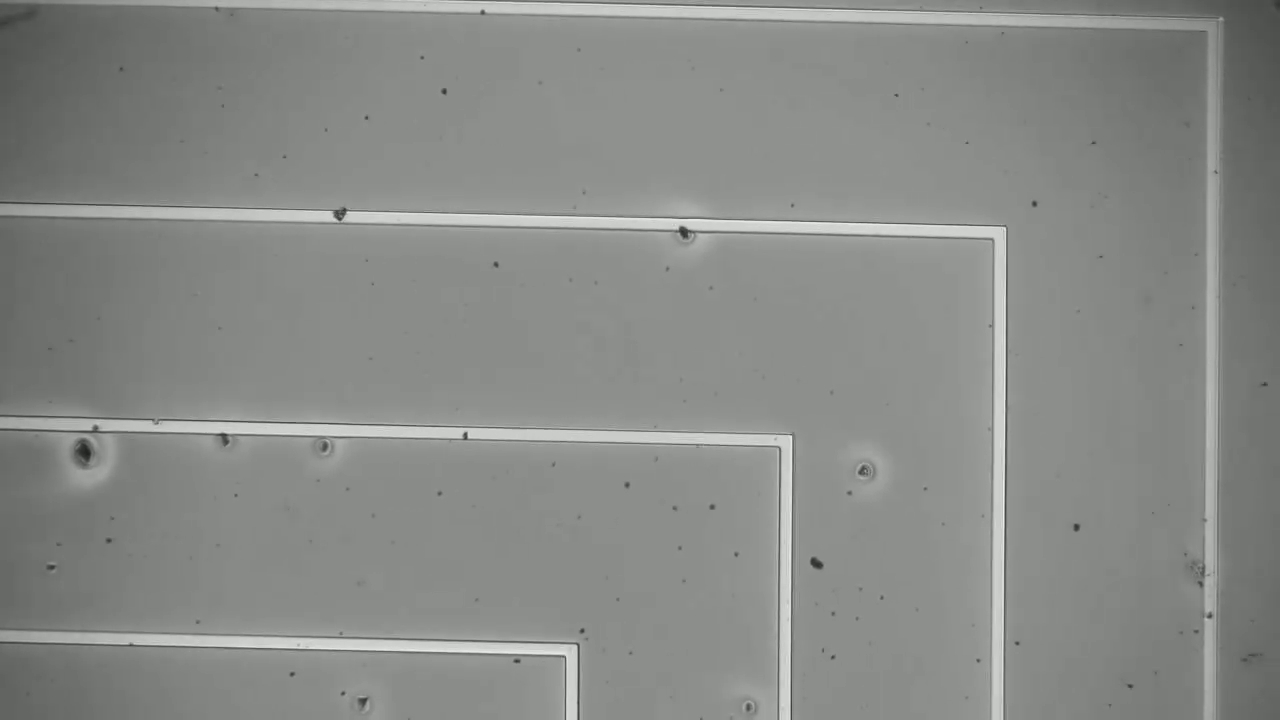stains_enbedded: (675, 213, 702, 249), (326, 200, 352, 232), (150, 415, 163, 426)
